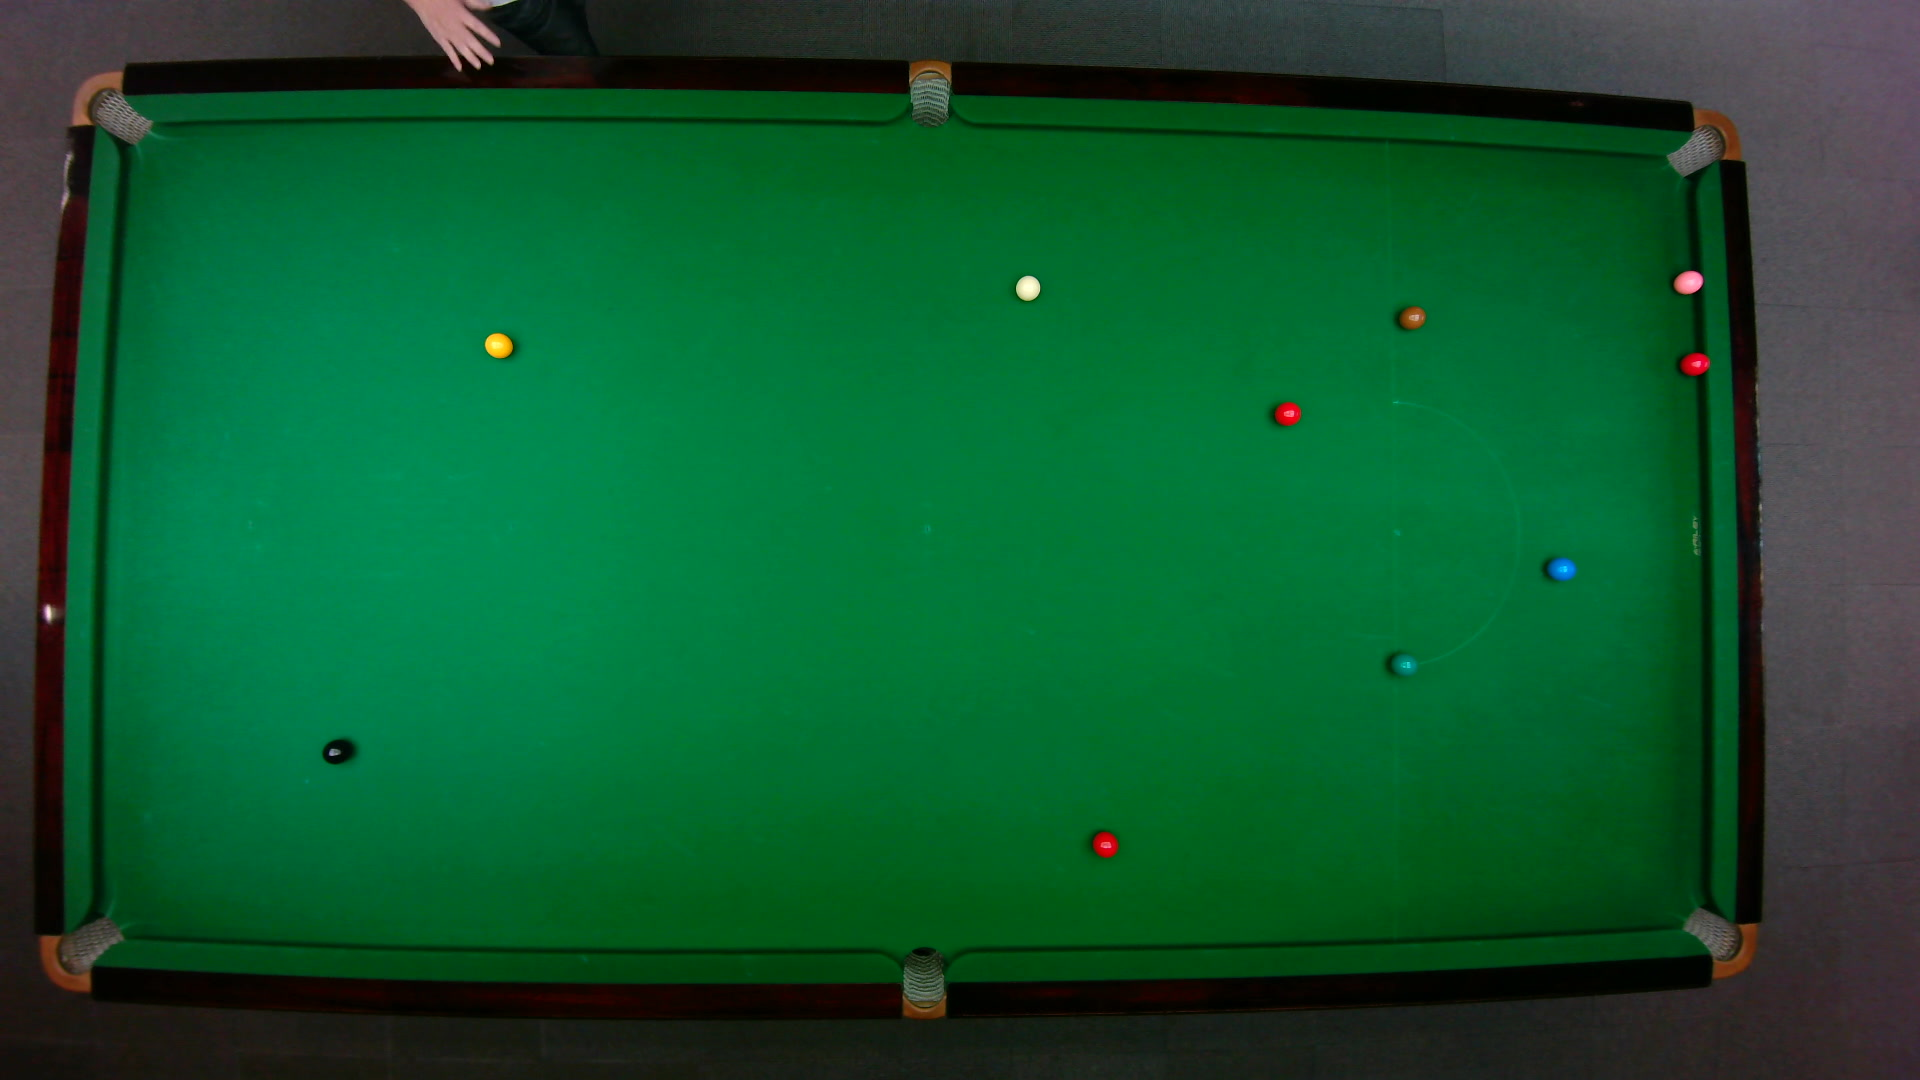bag: (37, 914, 125, 992), (69, 69, 152, 145), (1677, 905, 1756, 978), (1663, 107, 1741, 177), (901, 944, 944, 1021), (909, 57, 949, 128)
black: (320, 736, 352, 765)
blue: (1545, 555, 1577, 582)
brown: (1396, 305, 1427, 328)
green: (1389, 650, 1418, 676)
pink: (1671, 266, 1704, 295)
red: (1089, 828, 1120, 858), (1677, 349, 1712, 376), (1271, 400, 1303, 426)
white: (1011, 273, 1042, 301)
yellow: (481, 330, 514, 359)
zone: (1390, 398, 1519, 667)
